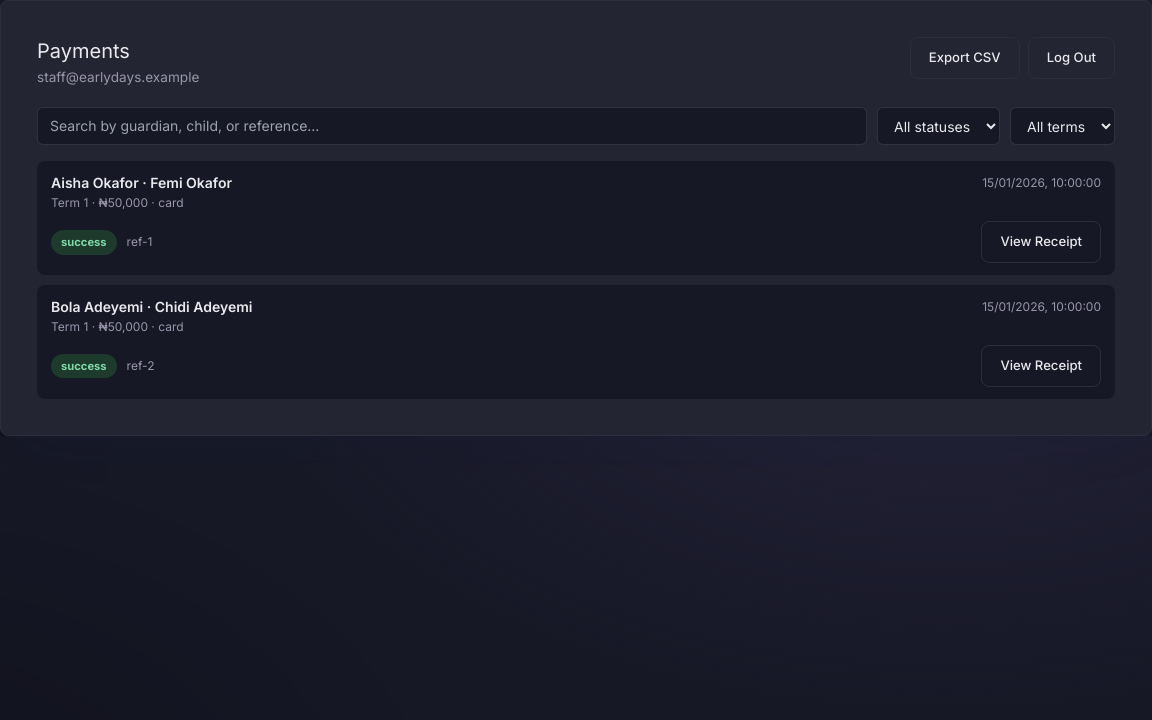
AdminPaymentsList › narrows the list by search text
Expected: the text "Aisha Okafor · Femi Okafor" is shown, [51,173,232,193]
Expected: the text "Bola Adeyemi · Chidi Adeyemi" is shown, [51,297,252,317]
Type "Bola" into the field named "Search payments". click: (452, 126)
box: [37,107,867,145]
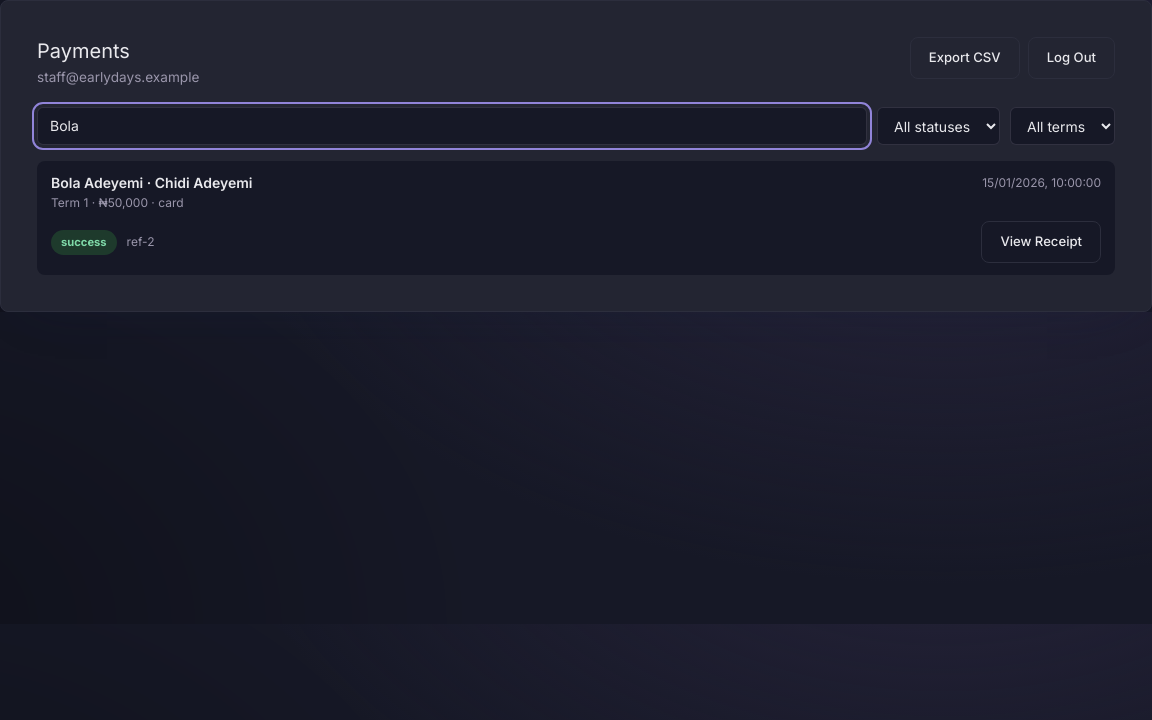
Expected: the text "Bola Adeyemi · Chidi Adeyemi" is shown, [51,173,252,193]
Expected: the text "Aisha Okafor" is gone
